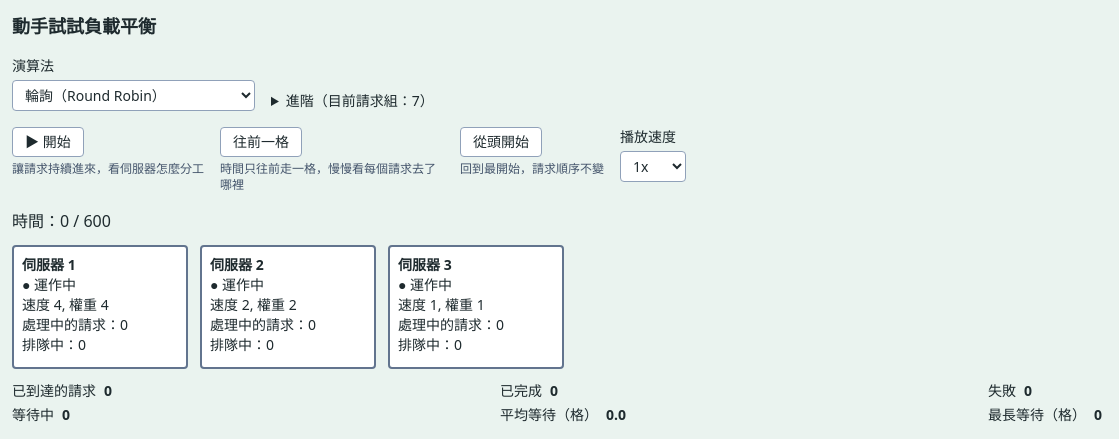
Test case: plain-language simulation controls › T1/T2: load balancing buttons and hints in zh-TW
Click the button "▶ 開始": (48, 142) [12,127,84,157]
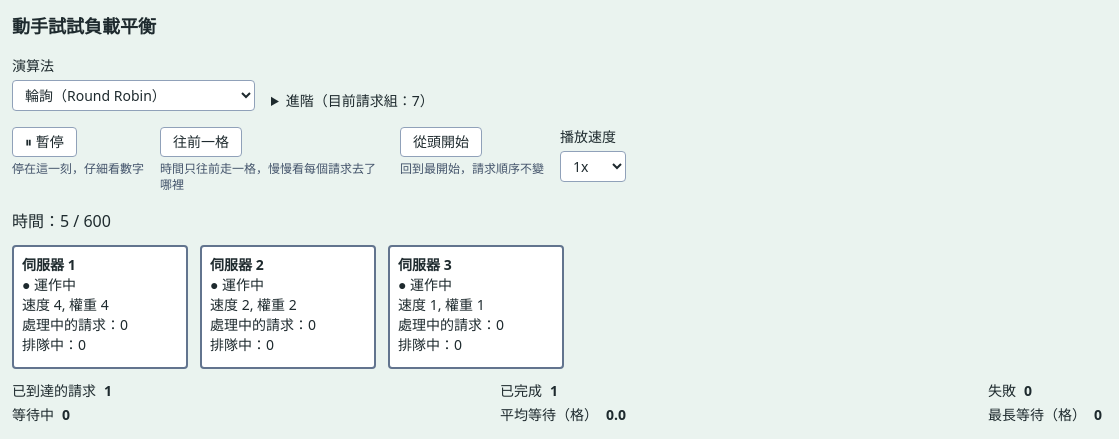
expect the text "停在這一刻，仔細看數字" is shown: met, box [12,161,144,177]
